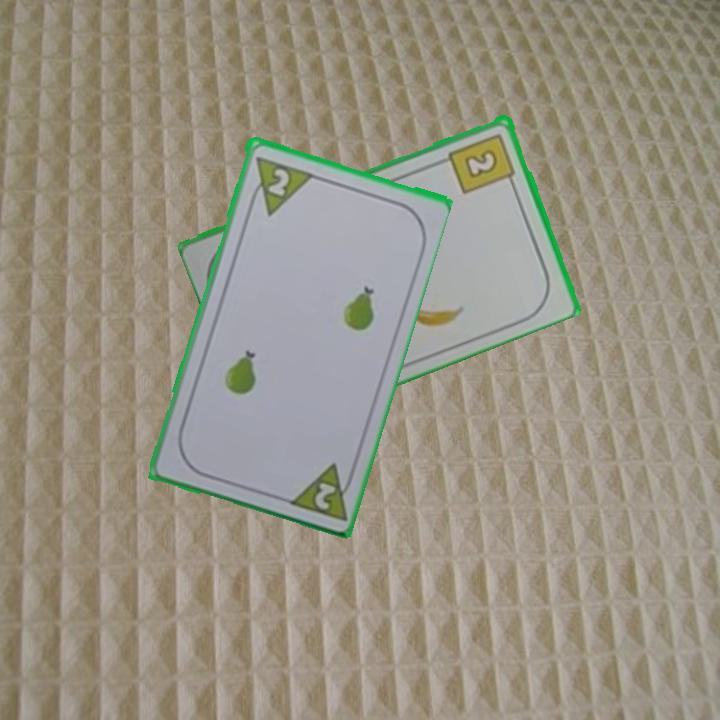2b: (445, 129, 519, 196)
2p: (283, 458, 359, 523), (264, 164, 292, 199)
